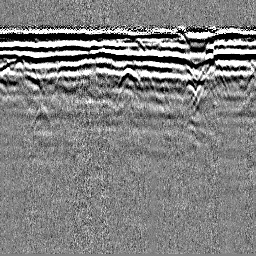cavity: (117, 66, 143, 89)
